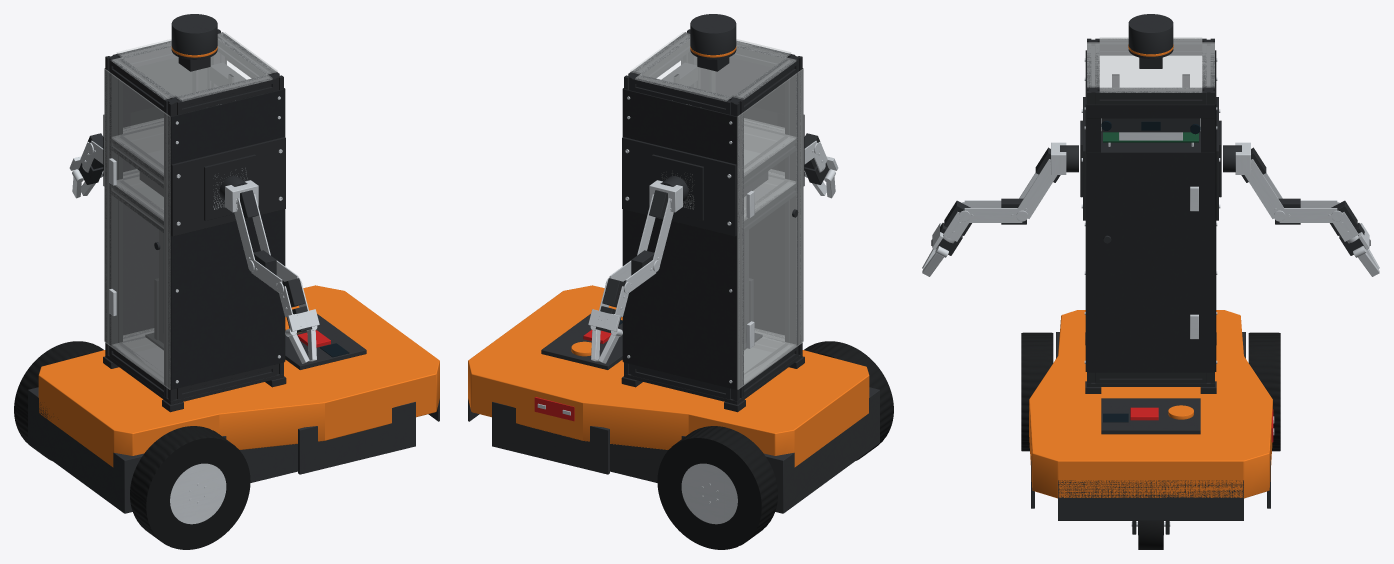
File: Underbot_R09_textured.glb
3 renders of one model, left to right at view 1: azimuth 30°, elevation 25°; view 2: azimuth 150°, elevation 25°; view 3: azimuth 270°, elevation 25°, orthographic. The views are drawn at different scales.
Parts seen in each view (by area): view 1: base_link__wr141e_orange_hood, base_link__rear_door_closed, base_link__side_-1_lower, base_link, right_wheel__rubber_tyre, base_link__wr141e_lower_chassis, base_link__side_-1_upper, base_link__arm_bridge_-1, base_link__side_1_lower, base_link__post_-0.16000000000000003_0.09000000000000001, base_link__cut_to_edge_side_-1, right_wheel__hub (+16 smaller); view 2: base_link__wr141e_orange_hood, base_link, base_link__rear_door_closed, base_link__side_1_lower, left_wheel__rubber_tyre, base_link__wr141e_lower_chassis, base_link__side_1_upper, base_link__post_-0.16000000000000003_-0.09000000000000001, base_link__side_-1_lower, left_wheel__hub, base_link__post_-0.16000000000000003_0.09000000000000001, base_link__side_-1_upper (+15 smaller); view 3: base_link__front_door_lower, base_link__wr141e_orange_hood, base_link, base_link__front_grille, base_link__control_panel, base_link__rear_door_closed, right_wheel__rubber_tyre, left_wheel__rubber_tyre, base_link__front_door_upper, lidar_mount__lidar_head, camera_mount__kinect_optical_carrier_provisional, base_link__camera_shelf (+8 smaller).
Boxes of the visible parts, x1,y1,x2,y2 form: base_link__wr141e_orange_hood: [38, 285, 439, 467]; base_link__rear_door_closed: [104, 69, 170, 389]; base_link__side_-1_lower: [170, 209, 284, 389]; base_link: [103, 32, 277, 383]; right_wheel__rubber_tyre: [130, 426, 250, 549]; base_link__wr141e_lower_chassis: [28, 387, 297, 513]; base_link__side_-1_upper: [170, 89, 284, 166]; base_link__arm_bridge_-1: [171, 137, 285, 236]; base_link__side_1_lower: [104, 184, 163, 340]; base_link__post_-0.16000000000000003_0.09000000000000001: [105, 54, 122, 357]; base_link__cut_to_edge_side_-1: [298, 402, 415, 474]; right_wheel__hub: [170, 463, 226, 524]; base_link__wr141e_orange_hood: [468, 285, 869, 467]; base_link: [492, 32, 796, 474]; base_link__rear_door_closed: [737, 69, 803, 389]; base_link__side_1_lower: [623, 209, 737, 389]; left_wheel__rubber_tyre: [657, 426, 777, 549]; base_link__wr141e_lower_chassis: [610, 387, 879, 513]; base_link__side_1_upper: [623, 89, 737, 166]; base_link__post_-0.16000000000000003_-0.09000000000000001: [785, 54, 802, 357]; base_link__side_-1_lower: [744, 184, 803, 340]; left_wheel__hub: [681, 463, 737, 524]; base_link__post_-0.16000000000000003_0.09000000000000001: [726, 97, 743, 401]; base_link__side_-1_upper: [700, 57, 803, 118]; base_link__front_door_lower: [1087, 152, 1214, 372]; base_link__wr141e_orange_hood: [1029, 310, 1272, 498]; base_link: [1087, 37, 1270, 508]; base_link__front_grille: [1058, 480, 1243, 520]; base_link__control_panel: [1101, 398, 1200, 434]; base_link__rear_door_closed: [1100, 56, 1201, 87]; right_wheel__rubber_tyre: [1021, 332, 1053, 451]; left_wheel__rubber_tyre: [1248, 332, 1280, 451]; base_link__front_door_upper: [1087, 104, 1214, 118]; lidar_mount__lidar_head: [1128, 14, 1173, 58]; camera_mount__kinect_optical_carrier_provisional: [1101, 118, 1200, 132]; base_link__camera_shelf: [1101, 131, 1200, 152].
Bounding box in the file's own units: 0.558 × 0.778 × 0.7134.
11 materials, 6 textured.
